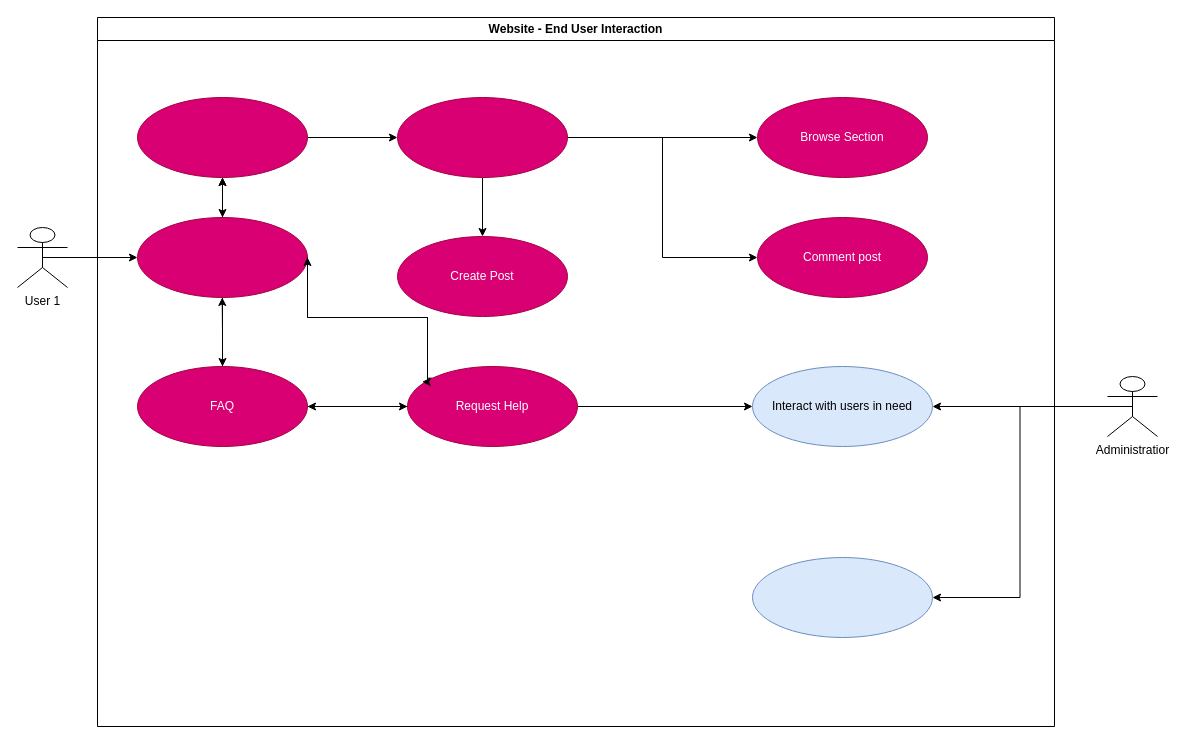
Some shapes in this 1186 by 744 pixel diagram are drawn without their labels. Each missing label, with the centre of its shape:
"Administer sections" goes at (x=842, y=597).
"Feed" goes at (x=482, y=137).
"Homepage" goes at (x=222, y=257).
"Login / Sign up" goes at (x=222, y=137).
